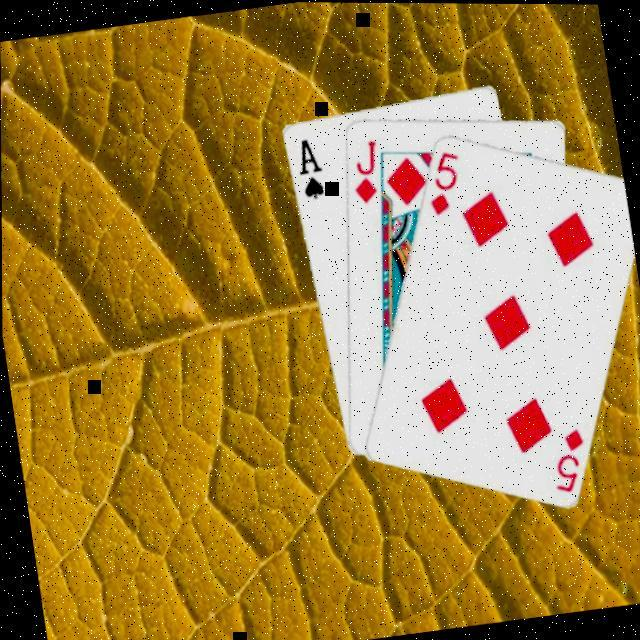5D: (542, 424, 591, 498), (418, 147, 467, 220)
AS: (287, 135, 327, 205)
JD: (342, 138, 386, 210)
